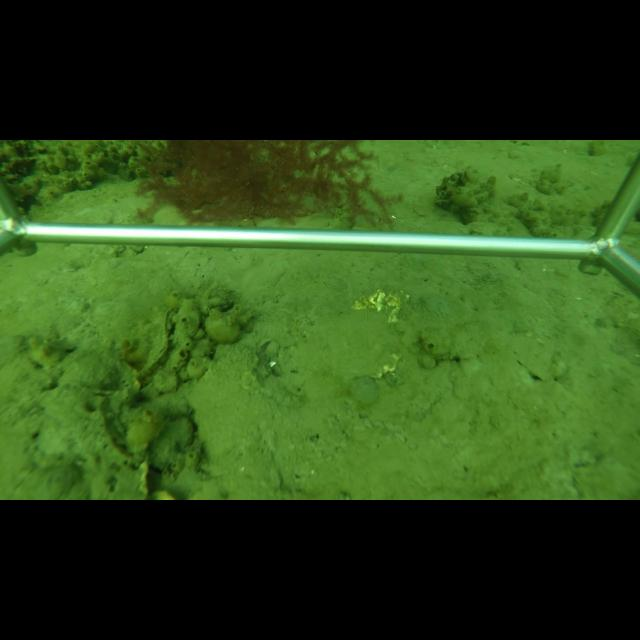Oyster-Closed: (136, 306, 179, 378)
